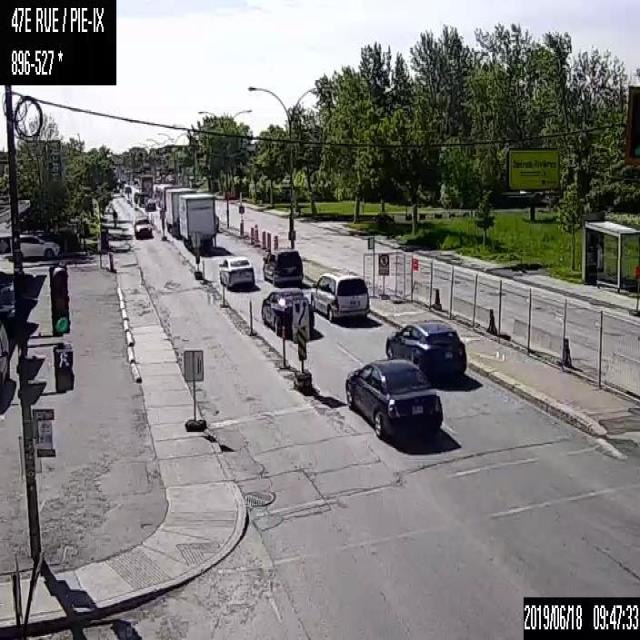construction: (248, 301, 252, 335), (281, 336, 285, 369), (273, 233, 278, 250), (261, 228, 265, 248), (253, 225, 257, 245), (201, 260, 204, 284), (221, 285, 224, 307), (267, 232, 270, 252), (250, 225, 253, 244)
pedestrian: (111, 207, 116, 228)
vehicle: (344, 356, 444, 438), (384, 315, 467, 383), (310, 271, 369, 321), (259, 286, 313, 338), (178, 192, 214, 249), (262, 247, 302, 286), (166, 187, 196, 236), (217, 253, 255, 288), (15, 233, 65, 257), (0, 283, 15, 330), (0, 323, 8, 393), (136, 172, 153, 200), (133, 215, 152, 237), (144, 198, 155, 209), (134, 190, 138, 202), (124, 185, 130, 191)
